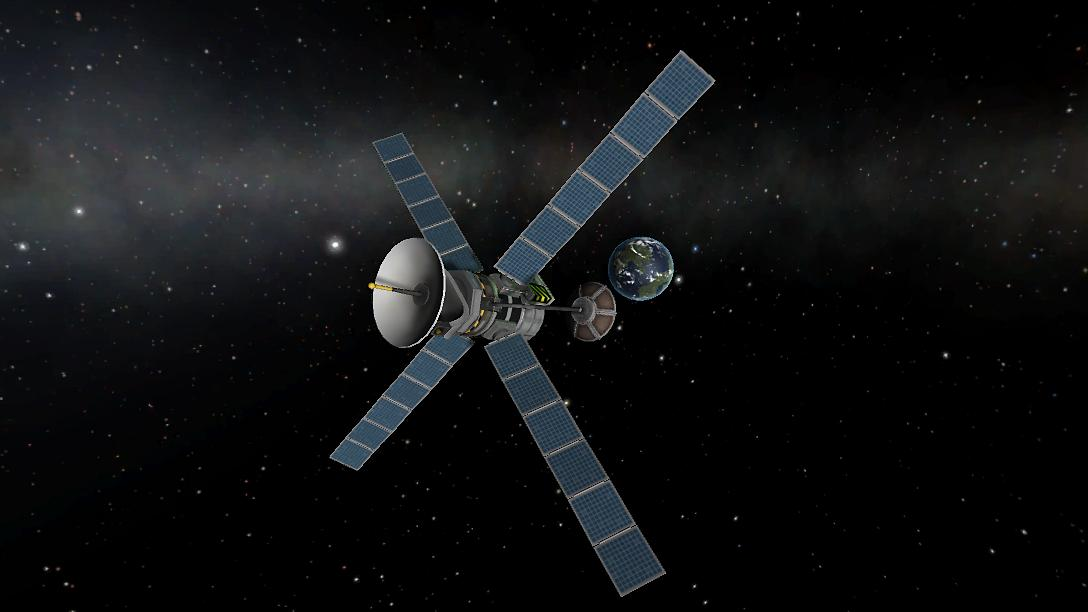antenna: (366, 234, 448, 350), (564, 279, 619, 344)
body: (427, 267, 557, 342)
solar: (492, 48, 719, 288), (482, 330, 670, 599), (327, 329, 478, 474), (371, 130, 486, 277)
